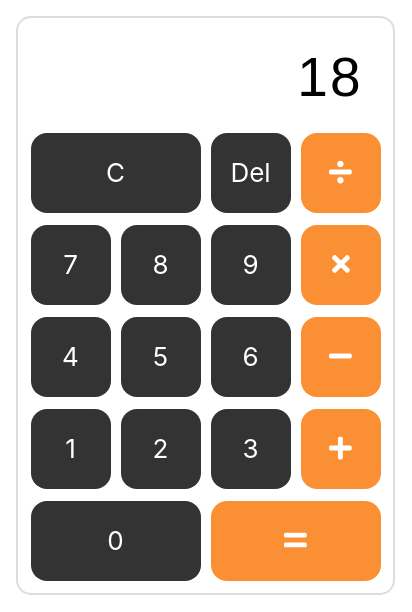
Scenario: result shoudld be 0 if 9 is minus with 9
Click the text with test id "number-click-C" at {"x": 116, "y": 173}, box [30,133,200,213]
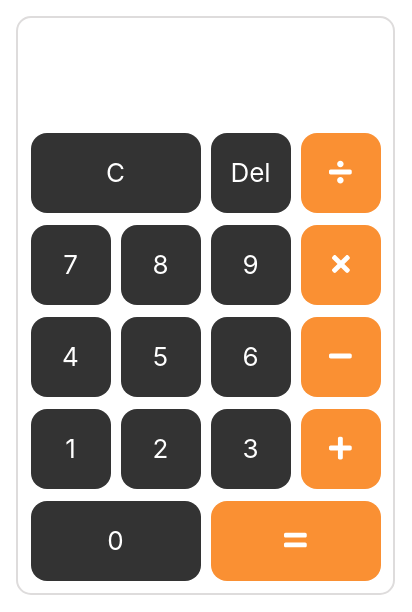
Click the text with test id "number-click-9" at {"x": 250, "y": 265}, box [210,225,290,305]
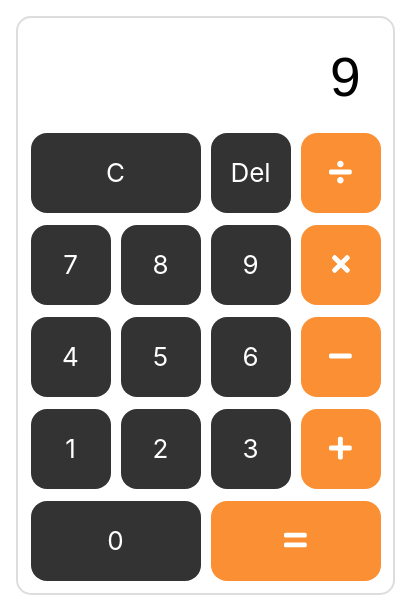
Click the element with test id "attribute-click-minus" at {"x": 340, "y": 357}, box [300,317,380,397]
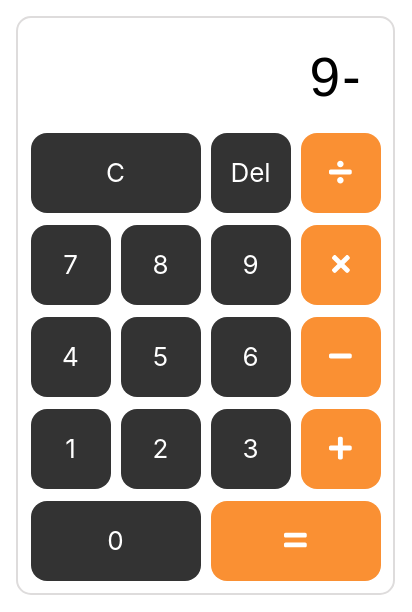
Click the text with test id "number-click-9" at {"x": 250, "y": 265}, box [210,225,290,305]
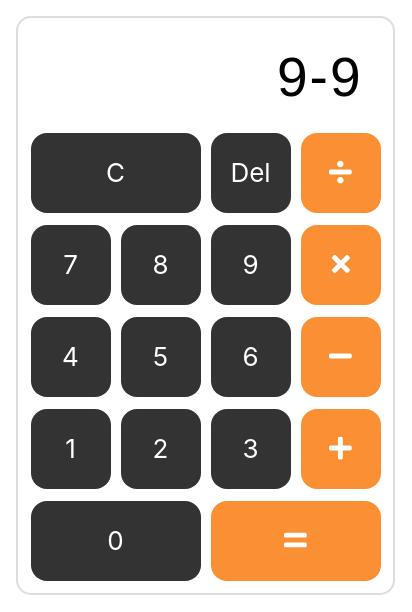
Click the element with test id "attribute-click-equals" at {"x": 296, "y": 541}, box [210,501,380,581]
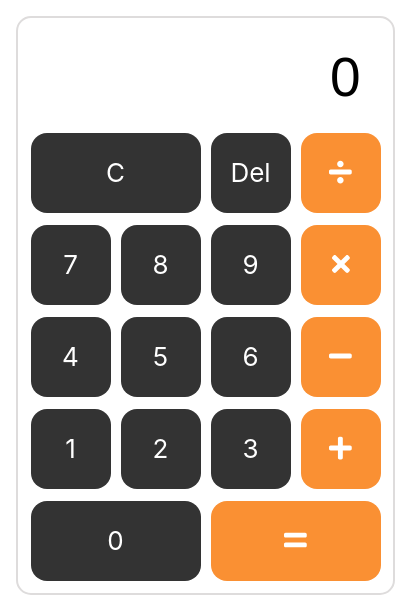
Expected: the text with test id "result" reads "0", [330,46,362,108]
